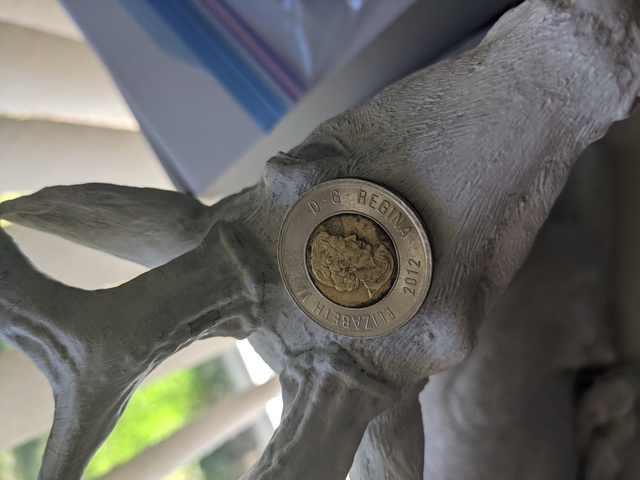twonie: (270, 167, 434, 336)
